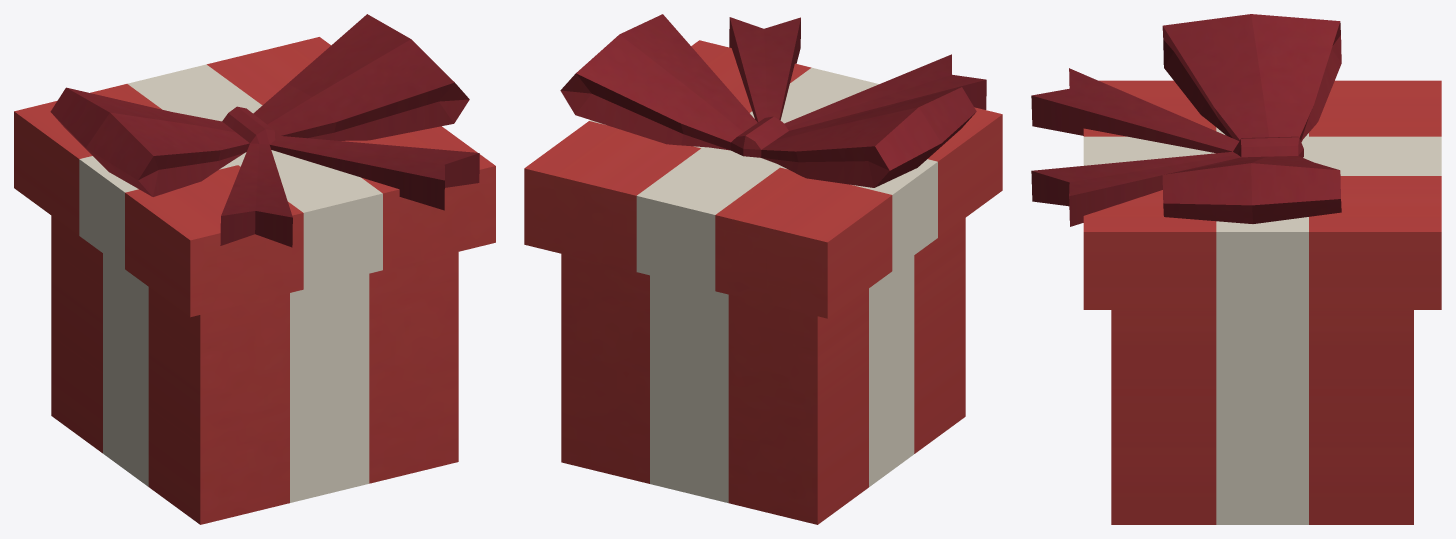
Rendered from gift_box_A_Small.obj.
The picture shows the model from 3 angles, left to right: view 1: azimuth 30°, elevation 25°; view 2: azimuth 150°, elevation 25°; view 3: azimuth 270°, elevation 25°; orthographic projection. The views are drawn at different scales.
Visible parts, largest first — view 1: gift_box_A_Small; view 2: gift_box_A_Small; view 3: gift_box_A_Small.
Part boxes in pixels (left/top/right/bottom): gift_box_A_Small: left=14, top=14, right=495, bottom=524; gift_box_A_Small: left=524, top=14, right=1002, bottom=524; gift_box_A_Small: left=1031, top=14, right=1441, bottom=524.
Bounding box in the file's own units: 0.4318 × 0.4346 × 0.4337.
